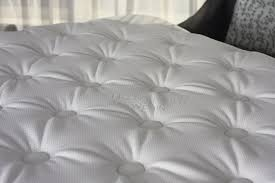bed-matress: (1, 17, 273, 183)
